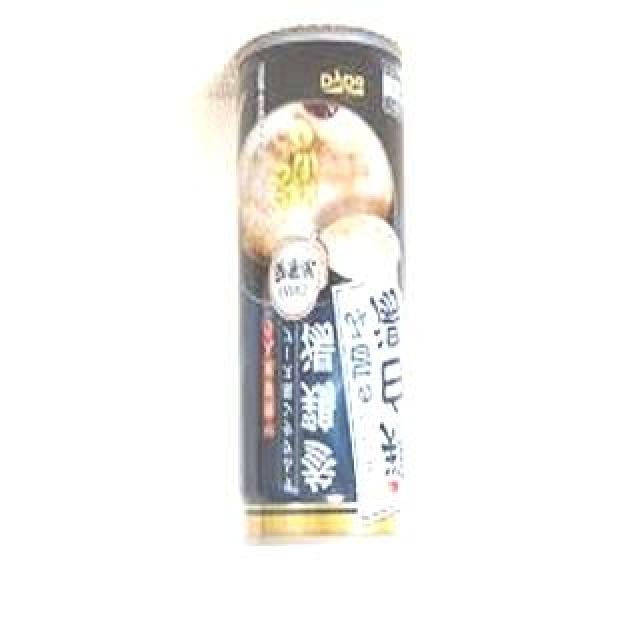Can: (236, 23, 412, 559)
